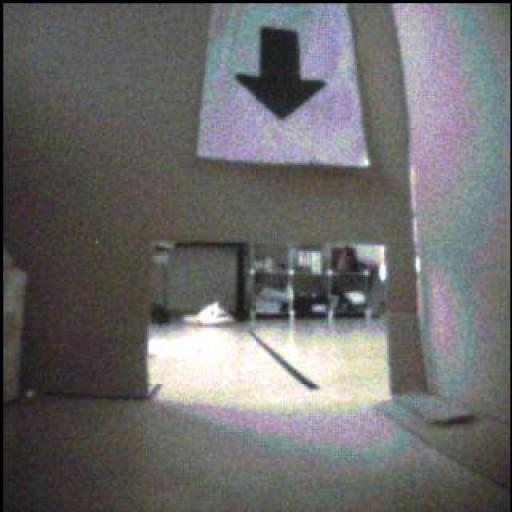arrow: (238, 29, 326, 120)
